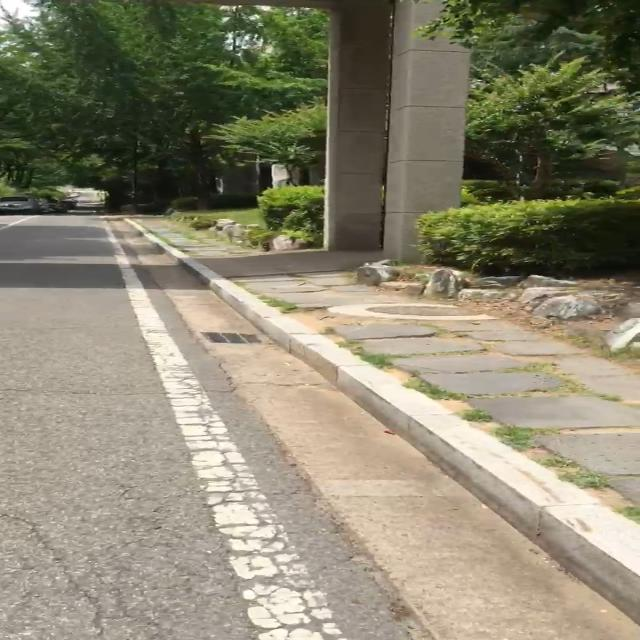obstacle: (0, 192, 74, 216)
road: (0, 212, 640, 640)
sidewalk: (217, 272, 640, 590), (142, 218, 255, 252)
